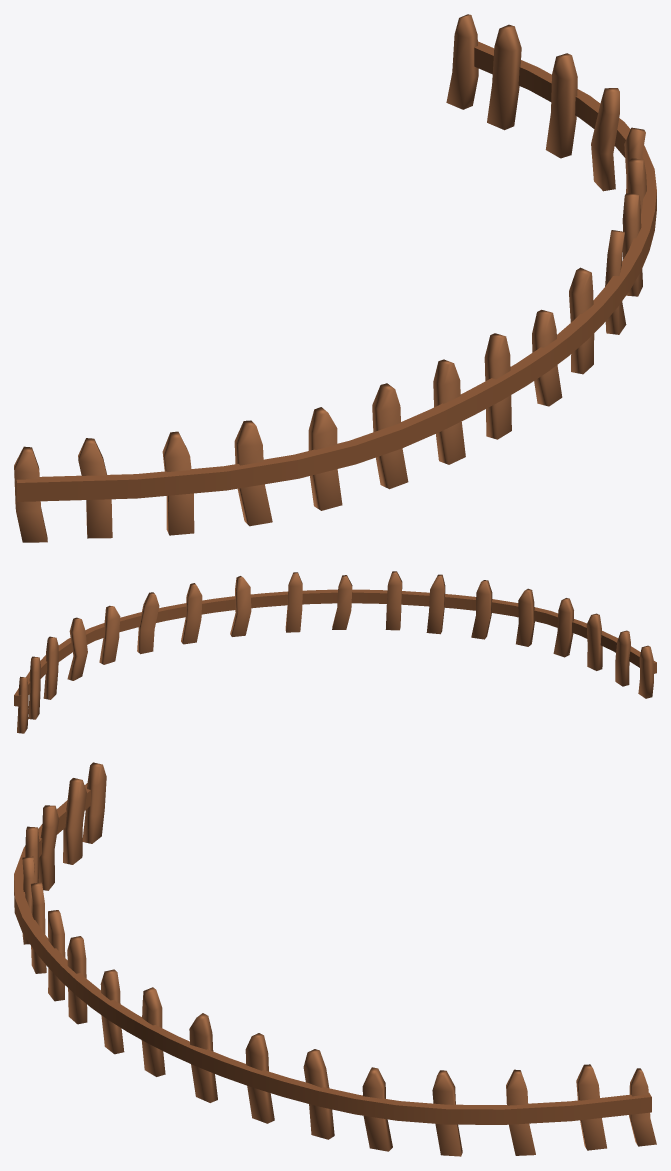
File: Fance.fbx
3 views of the same model, one above another, from view 1: azimuth 30°, elevation 25°; view 2: azimuth 150°, elevation 25°; view 3: azimuth 270°, elevation 25° (orthographic). The views are drawn at different scales.
Parts seen in each view (by area): view 1: polySurface150; view 2: polySurface150; view 3: polySurface150.
Boxes of the visible parts, left/top/right/bottom form: polySurface150: left=14, top=14, right=656, bottom=542; polySurface150: left=14, top=571, right=656, bottom=733; polySurface150: left=14, top=762, right=656, bottom=1156.
Size of the model in its own units: 842 by 98.66 by 696.
